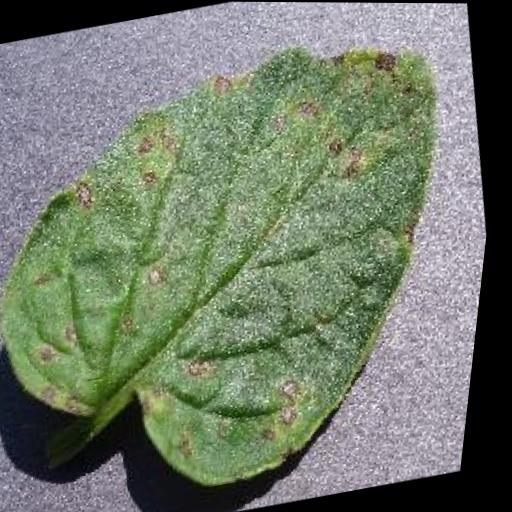Septoria: (0, 20, 510, 512)
